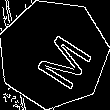M_NW: (19, 21, 88, 87)
